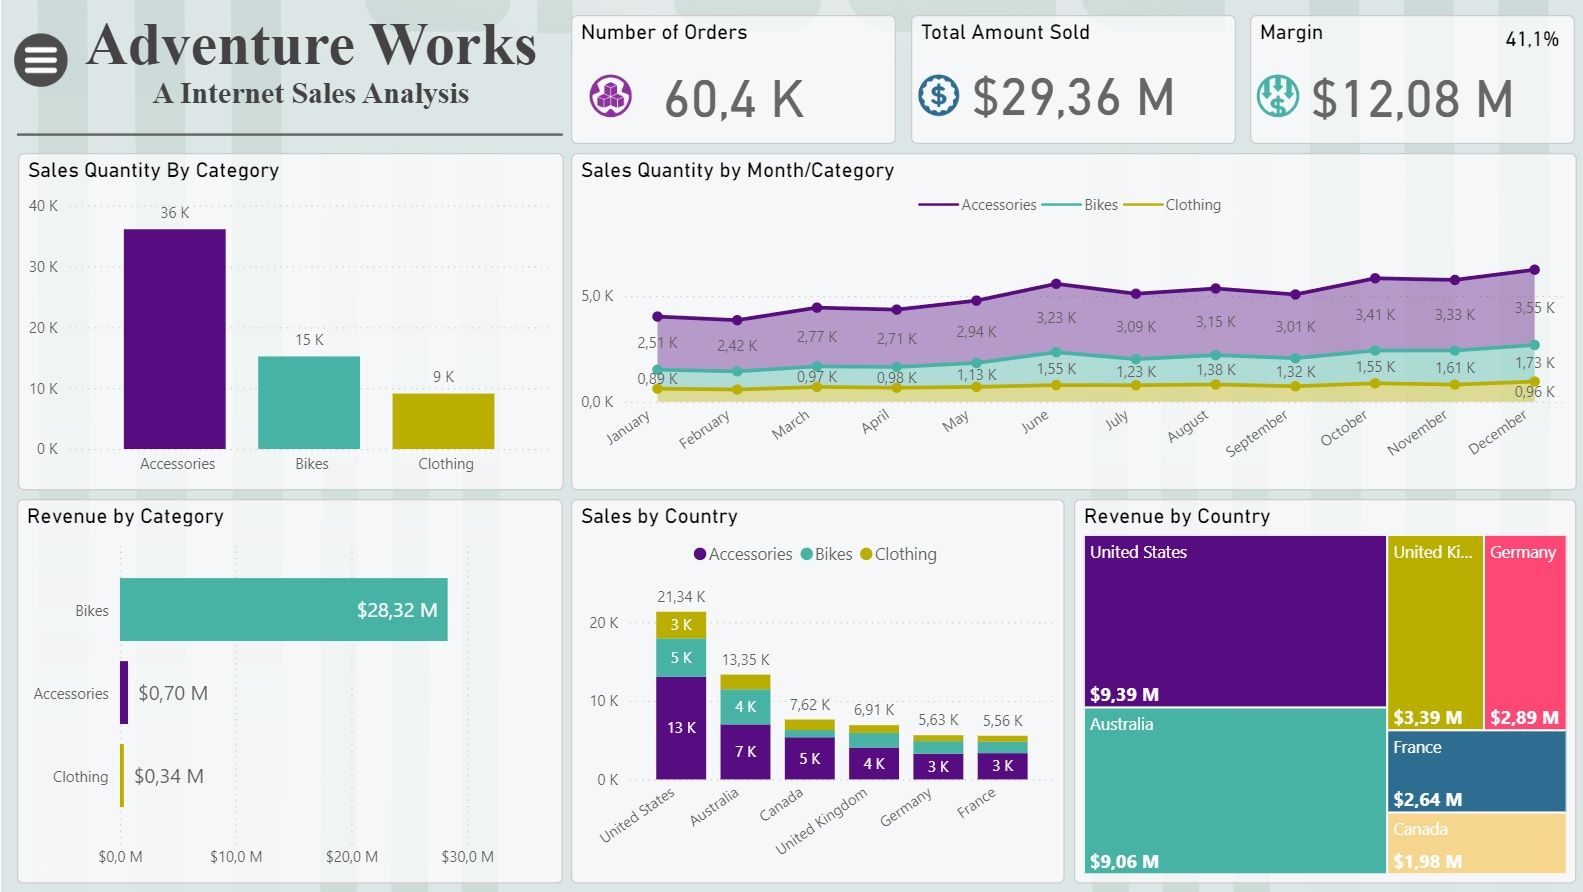

This screenshot's page, from the dashboard's own definition file:
{"tool":"powerbi","page":{"name":"Overview","canvas":[1280,720],"ordinal":0},"visuals":[{"type":"card","title":"Number of Orders","fields":{"Values":["#medidas.Número de Vendas"]},"box":[459.6,12.4,262,104.1],"z":0},{"type":"stackedAreaChart","title":"Sales Quantity by Month/Category","fields":{"Category":["DimDate.EnglishMonthName"],"Y":["#medidas.Sales Qtd"],"Series":["DimProductCategory.EnglishProductCategoryName"]},"box":[459.6,123.5,810.7,271.7],"z":1000},{"type":"card","title":"Total Amount Sold","fields":{"Values":["#medidas.SalesAmount"]},"box":[733.5,12.4,262,104.1],"z":2000},{"type":"columnChart","title":"Sales by Country","fields":{"Category":["DimSalesTerritory.SalesTerritoryCountry"],"Y":["#medidas.Sales Qtd"],"Series":["DimProductCategory.EnglishProductCategoryName"]},"box":[459.8,402.1,398.1,310.4],"z":3000},{"type":"clusteredBarChart","title":"Revenue by Category","fields":{"Category":["DimProductCategory.EnglishProductCategoryName"],"Y":["#medidas.SalesAmount"]},"box":[13,402,440,310],"z":4000},{"type":"card","title":"Margin","fields":{"Values":["#medidas.Margin"]},"box":[1007.4,12.4,262,104.1],"z":5000},{"type":"card","fields":{"Values":["#medidas.Margin %"]},"box":[1200,12.7,70,38.2],"z":6000},{"type":"columnChart","title":"Sales Quantity By Category","fields":{"Category":["DimProductCategory.EnglishProductCategoryName"],"Y":["#medidas.Sales Qtd"]},"box":[13.3,123.3,440,271.7],"z":7000},{"type":"textbox","box":[58.2,2.6,383.7,94.4],"z":8000},{"type":"shape","box":[13.2,93.5,440.2,30],"z":9000},{"type":"image","box":[733.9,55,44.1,44.1],"z":10000},{"type":"image","box":[468.4,54.5,45.9,45],"z":11000},{"type":"image","box":[1007.4,54.5,45,45],"z":12000},{"type":"treemap","title":"Revenue by Country","fields":{"Group":["DimSalesTerritory.SalesTerritoryCountry"],"Values":["#medidas.SalesAmount"]},"box":[864.8,402.1,405.2,310.4],"z":13000},{"type":"image","box":[5.3,21.2,52.9,54.7],"z":14000},{"type":"actionButton","box":[2.6,21.2,58.2,54.7],"z":14500}]}

Visuals, with their boxes in screenshot pixels (x1, y1, x2, y2), scaled from the page's 1280x720 canvas onto the 1583x892 screenshot:
"Number of Orders" card: [568, 15, 892, 144]
"Sales Quantity by Month/Category" stackedAreaChart: [568, 153, 1571, 490]
"Total Amount Sold" card: [907, 15, 1231, 144]
"Sales by Country" columnChart: [569, 498, 1061, 883]
"Revenue by Category" clusteredBarChart: [16, 498, 560, 882]
"Margin" card: [1246, 15, 1570, 144]
card - #medidas.Margin %: [1484, 16, 1571, 63]
"Sales Quantity By Category" columnChart: [16, 153, 561, 489]
textbox: [72, 3, 547, 120]
shape: [16, 116, 561, 153]
image: [908, 68, 962, 123]
image: [579, 68, 636, 123]
image: [1246, 68, 1302, 123]
"Revenue by Country" treemap: [1070, 498, 1571, 883]
image: [7, 26, 72, 94]
actionButton: [3, 26, 75, 94]
